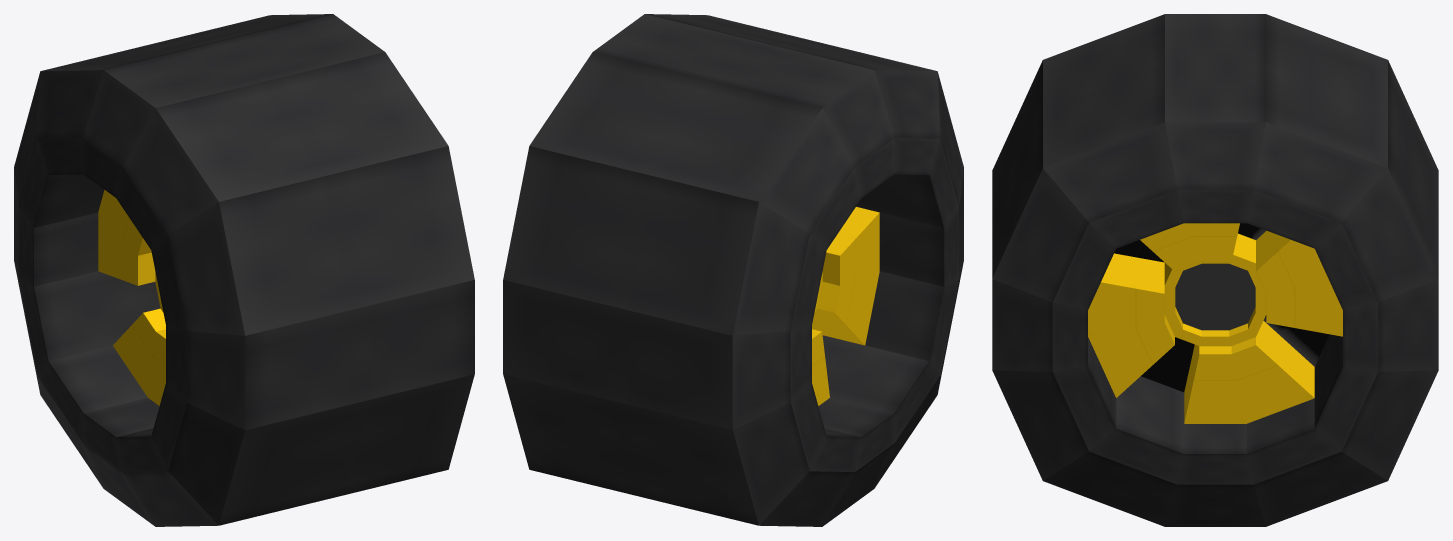
The model's file is Roda-Frontal-Beekart.fbx.
3 renders of one model, left to right at view 1: azimuth 30°, elevation 25°; view 2: azimuth 150°, elevation 25°; view 3: azimuth 270°, elevation 25°, orthographic. The views are drawn at different scales.
Visible parts, largest first — view 1: Rodas.002; view 2: Rodas.002; view 3: Rodas.002.
Part boxes in pixels (box(x1,y1,x2,y2)): Rodas.002: box(14, 14, 474, 526); Rodas.002: box(503, 14, 963, 526); Rodas.002: box(992, 14, 1438, 526).
Size of the model in its own units: 18.82 by 26.05 by 26.05.
